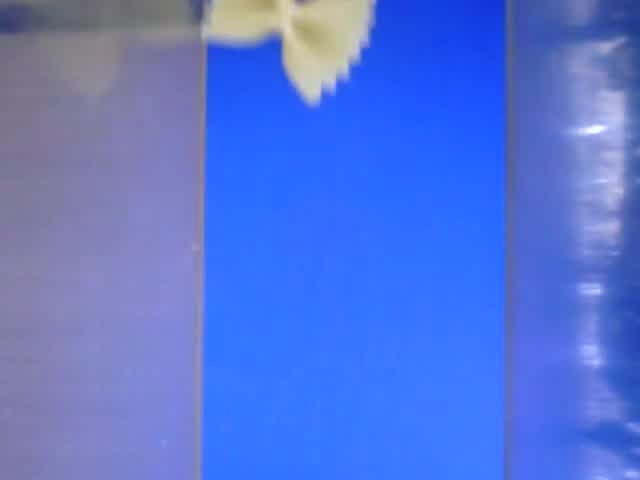farfalle: (198, 1, 379, 108)
